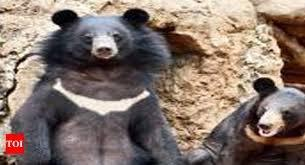bear: (9, 9, 185, 165), (188, 77, 304, 165)
